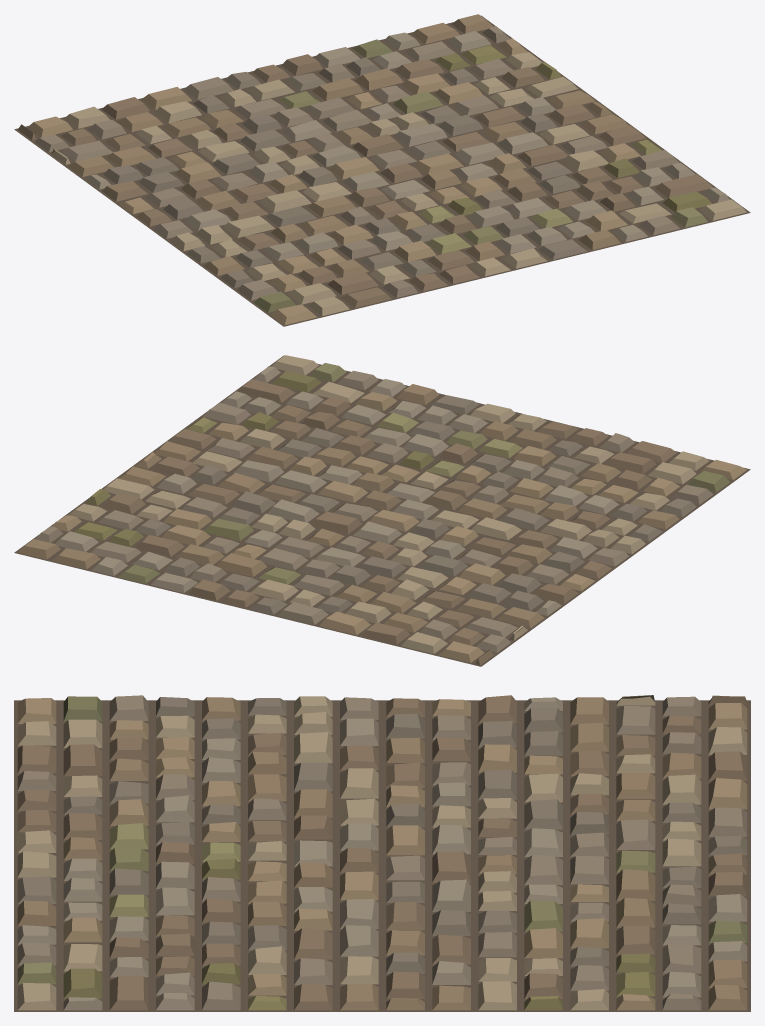
Rendered from town_cobble_patch.glb.
3 views of the same model, one above another, from view 1: azimuth 30°, elevation 25°; view 2: azimuth 150°, elevation 25°; view 3: azimuth 270°, elevation 25° (orthographic). The views are drawn at different scales.
Visible parts, largest first — view 1: town_cobble_patch; view 2: town_cobble_patch; view 3: town_cobble_patch.
Part boxes in pixels (<box>): town_cobble_patch: <box>14,14,750,326</box>; town_cobble_patch: <box>14,355,750,666</box>; town_cobble_patch: <box>14,695,750,1011</box>.
Bounding box in the file's own units: 8 × 0.1182 × 8.
